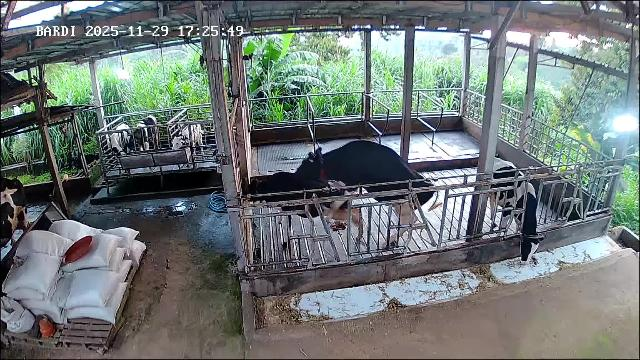mounting: (293, 140, 432, 244)
